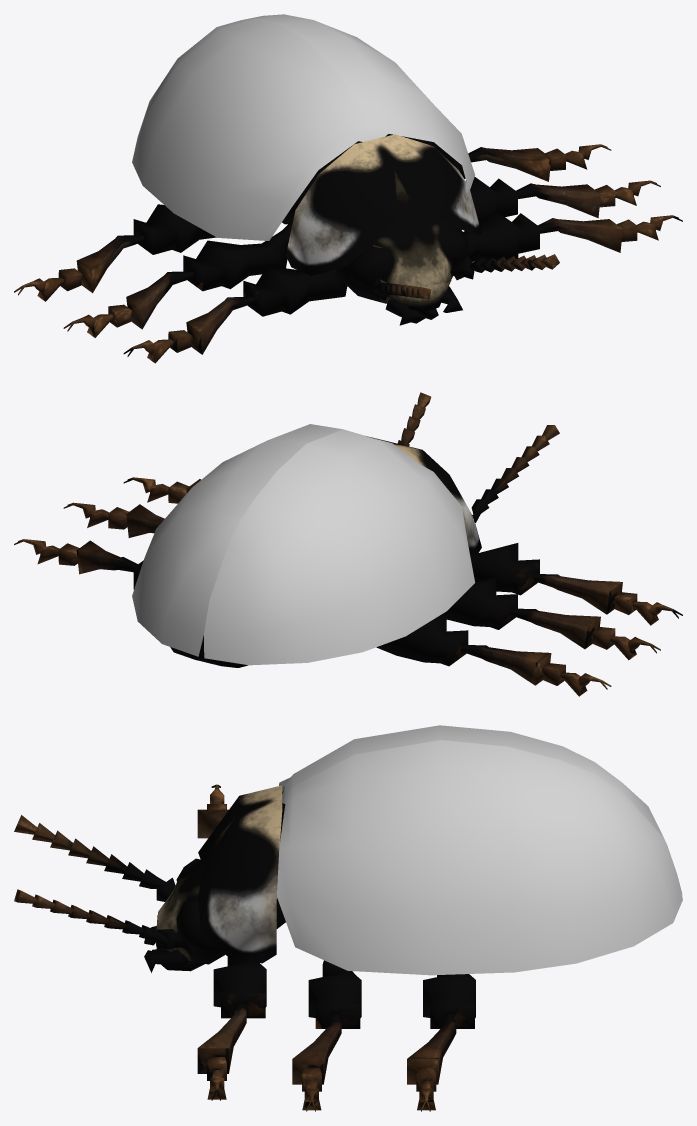
3 views of the same model, one above another, from view 1: azimuth 30°, elevation 25°; view 2: azimuth 150°, elevation 25°; view 3: azimuth 270°, elevation 25° (orthographic). The views are drawn at different scales.
Visible parts, largest first — view 1: Elytra, Body, Leg_1, Leg_2, Leg_3, Antenna, Mouth, Antenna_Base; view 2: Elytra, Leg_3, Leg_2, Leg_1, Antenna, Body; view 3: Elytra, Body, Leg_1, Leg_2, Leg_3, Antenna, Antenna_Base, Mouth, Antenna_Base_1.
Part boxes in pixels (bbox=[...]): Elytra: bbox=[132, 14, 474, 240]; Body: bbox=[282, 134, 481, 312]; Leg_1: bbox=[123, 210, 682, 363]; Leg_2: bbox=[63, 177, 660, 337]; Leg_3: bbox=[14, 144, 611, 301]; Antenna: bbox=[384, 254, 559, 299]; Mouth: bbox=[385, 286, 462, 325]; Antenna_Base: bbox=[369, 255, 474, 300]; Elytra: bbox=[132, 424, 475, 665]; Leg_3: bbox=[14, 539, 611, 696]; Leg_2: bbox=[63, 502, 660, 660]; Leg_1: bbox=[123, 477, 682, 625]; Antenna: bbox=[397, 392, 559, 504]; Body: bbox=[170, 436, 481, 667]; Elytra: bbox=[277, 725, 682, 975]; Body: bbox=[156, 785, 285, 964]; Leg_1: bbox=[197, 784, 266, 1100]; Leg_2: bbox=[292, 960, 361, 1111]; Leg_3: bbox=[407, 974, 475, 1111]; Antenna: bbox=[14, 815, 144, 934]; Antenna_Base: bbox=[156, 877, 183, 949]; Mouth: bbox=[144, 926, 189, 972]; Antenna_Base_1: bbox=[139, 869, 168, 945].
Size of the model in its own units: 5.65 by 1.8 by 4.77.
